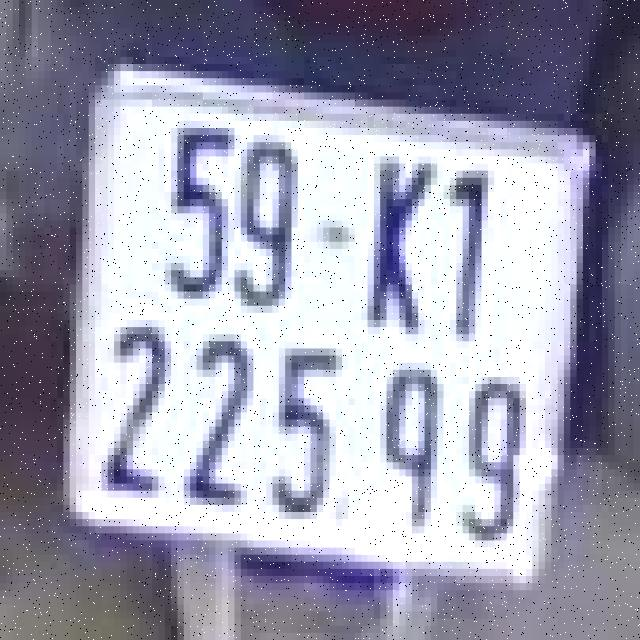1: (443, 153, 507, 359)
2: (92, 310, 168, 494), (178, 324, 254, 508)
5: (158, 114, 234, 306), (270, 324, 346, 516)
9: (457, 362, 532, 554), (238, 110, 301, 324), (380, 352, 444, 544)
K: (361, 138, 444, 338)
